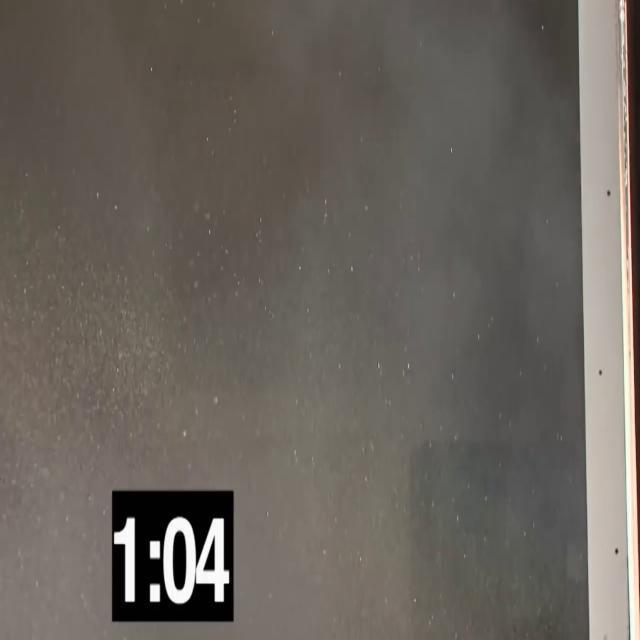Fire: (578, 0, 635, 612)
Smoke: (0, 3, 589, 640), (3, 126, 117, 640)
